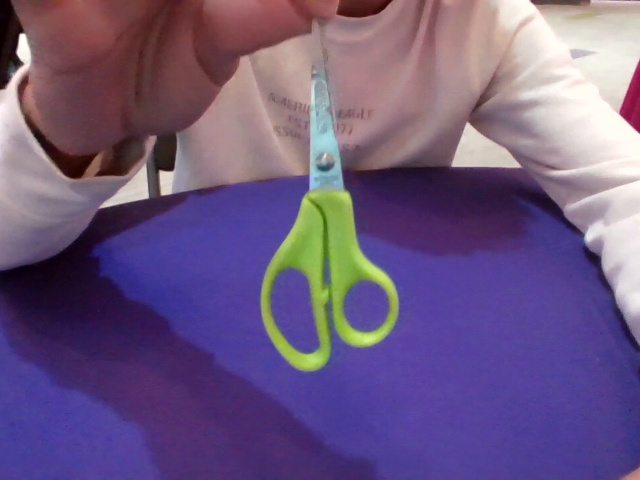tijeras: (260, 20, 398, 372)
